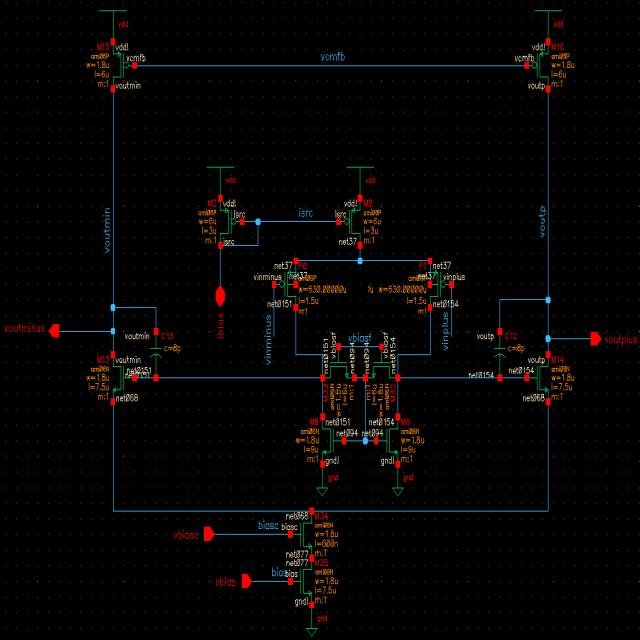cap: (492, 327, 507, 382), (150, 328, 162, 380)
nmos: (319, 342, 358, 383), (110, 349, 138, 406), (319, 412, 347, 468), (362, 342, 400, 382), (287, 508, 315, 562), (524, 352, 552, 406), (374, 414, 401, 466), (288, 555, 314, 608)
pmos: (110, 38, 140, 94), (523, 38, 551, 95), (427, 257, 455, 313), (217, 193, 244, 250), (336, 193, 362, 250), (272, 257, 299, 311)
